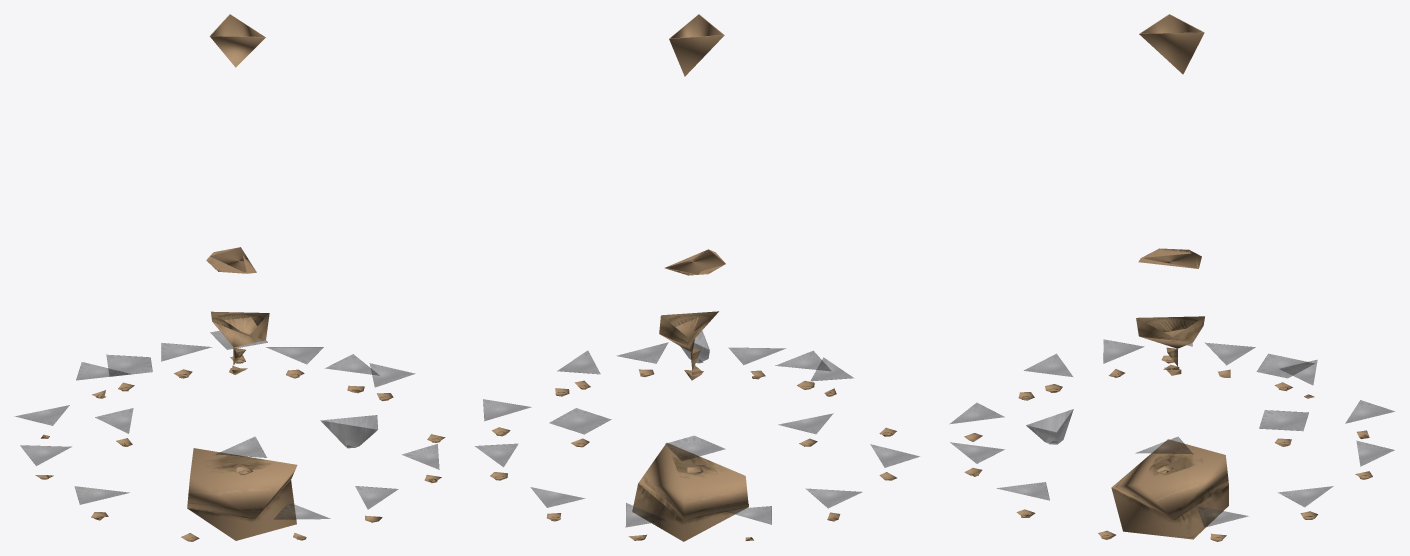
Rendered from lighting_chandelier_03.glb.
3 views of the same model, side by side, from view 1: azimuth 30°, elevation 25°; view 2: azimuth 150°, elevation 25°; view 3: azimuth 270°, elevation 25° (orthographic).
Visible parts, largest first — view 1: Chandelier_03; view 2: Chandelier_03; view 3: Chandelier_03.
Part boxes in pixels (x1,y1,x2,y2): Chandelier_03: [14, 14, 445, 541]; Chandelier_03: [475, 14, 919, 541]; Chandelier_03: [949, 14, 1394, 541].
Bounding box in the file's own units: 0.7714 × 0.9287 × 0.7728.
Materials: 2 (2 with a texture image).
